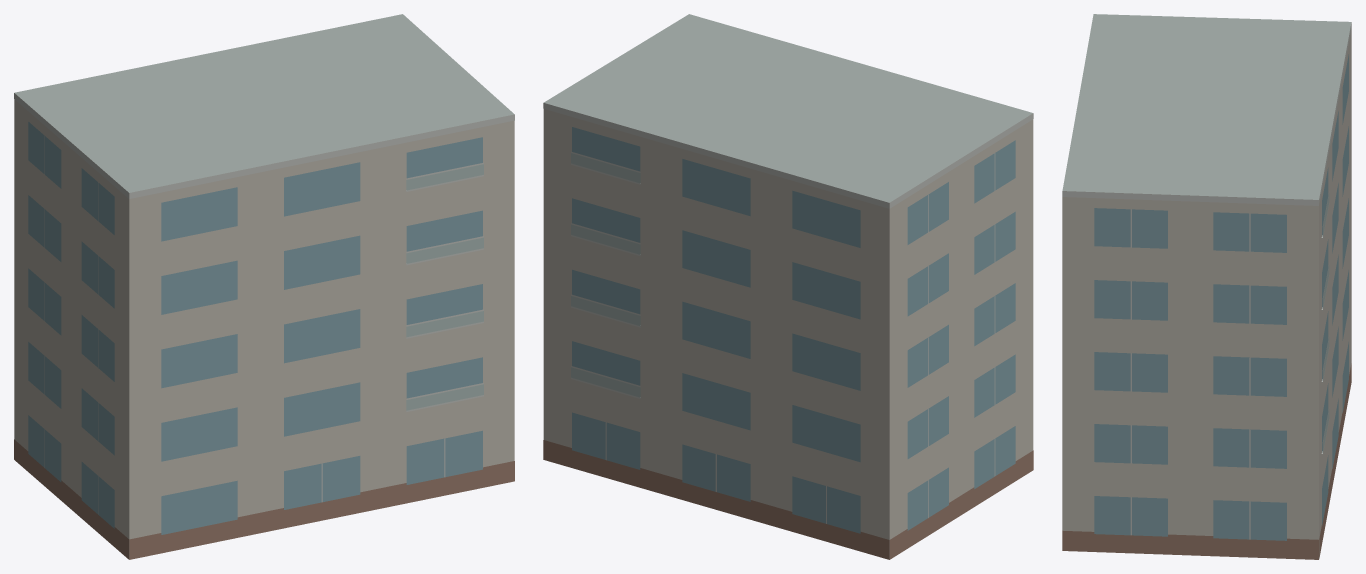
The model's file is survey-upis-32752832.glb.
The picture shows the model from 3 angles, left to right: view 1: azimuth 30°, elevation 25°; view 2: azimuth 150°, elevation 25°; view 3: azimuth 270°, elevation 25°; orthographic projection. The views are drawn at different scales.
Visible parts, largest first — view 1: survey-upis-32752832.tmp; view 2: survey-upis-32752832.tmp; view 3: survey-upis-32752832.tmp.
Part boxes in pixels (left/top/right/bottom): survey-upis-32752832.tmp: left=14, top=14, right=514, bottom=559; survey-upis-32752832.tmp: left=543, top=14, right=1033, bottom=559; survey-upis-32752832.tmp: left=1062, top=14, right=1351, bottom=559.
Size of the model in its own units: 16.19 by 14.6 by 10.64.
